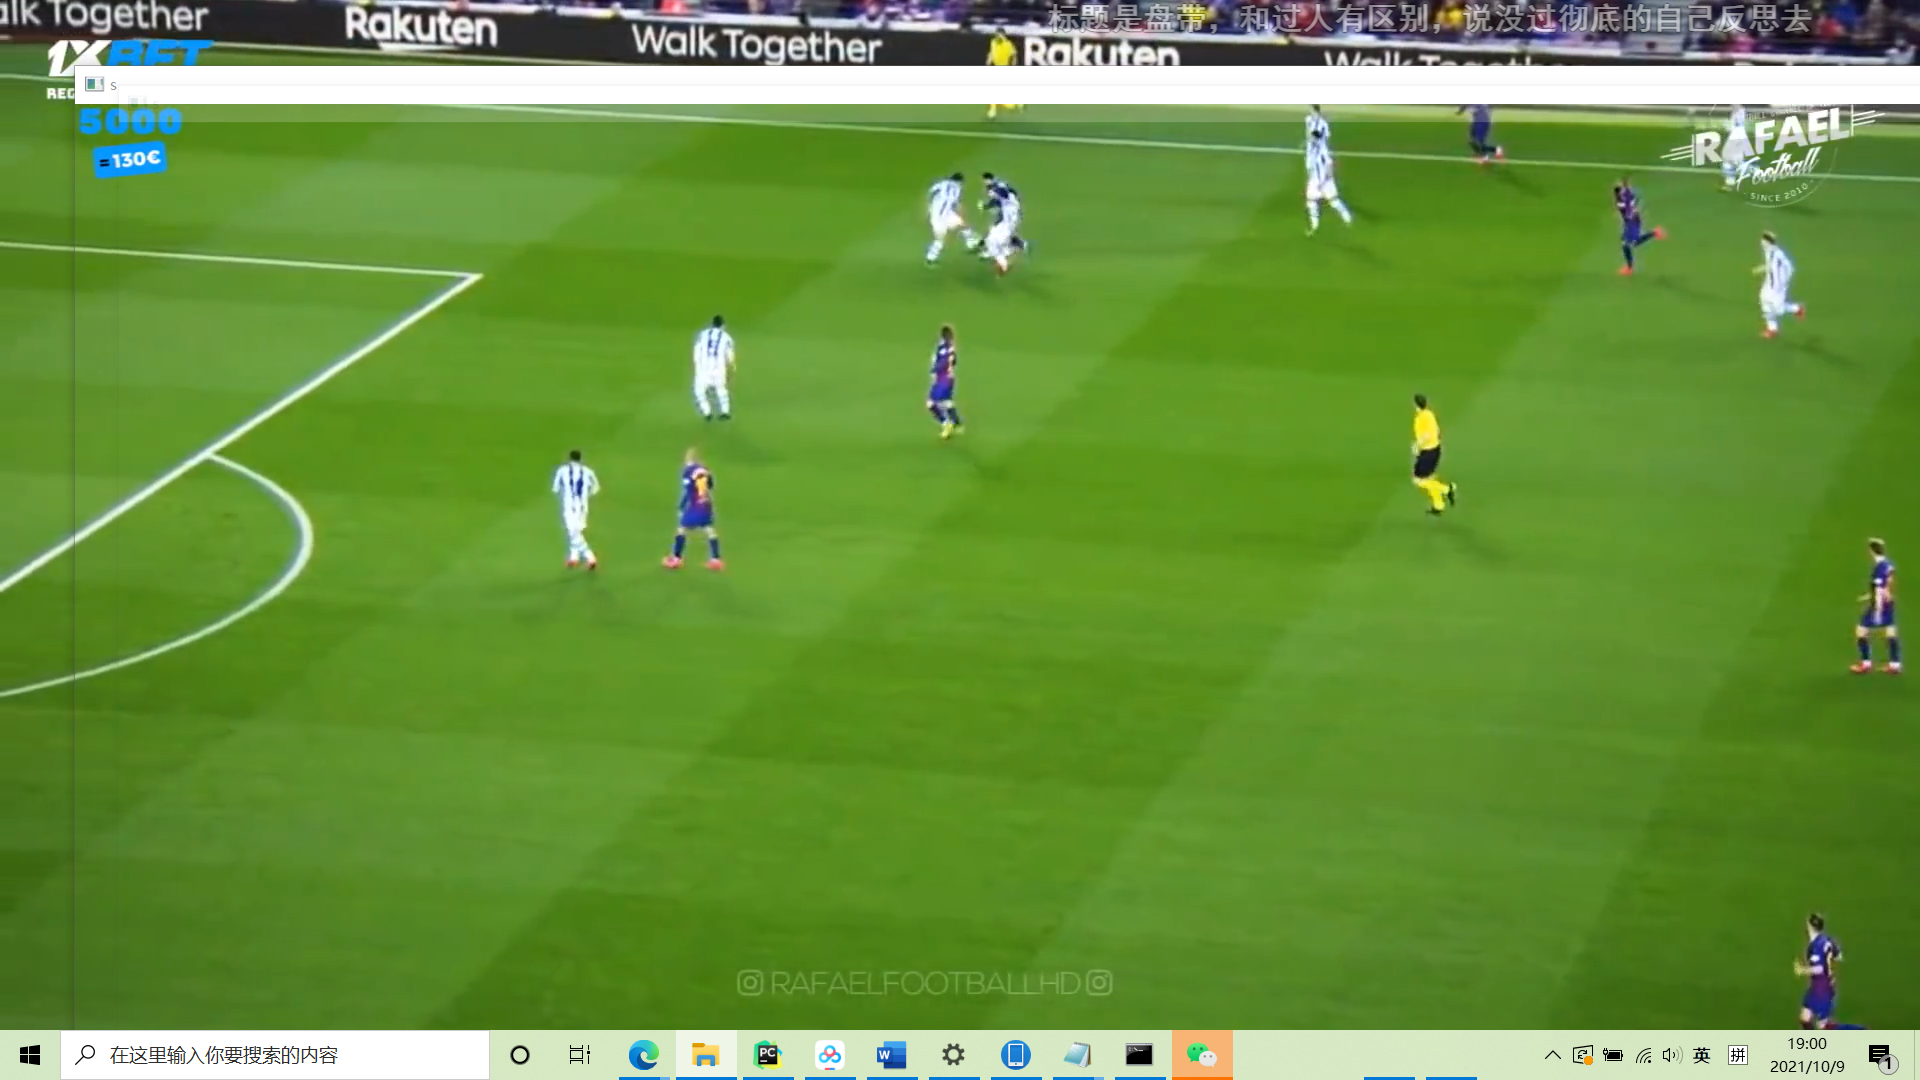ft: (964, 233, 982, 252)
